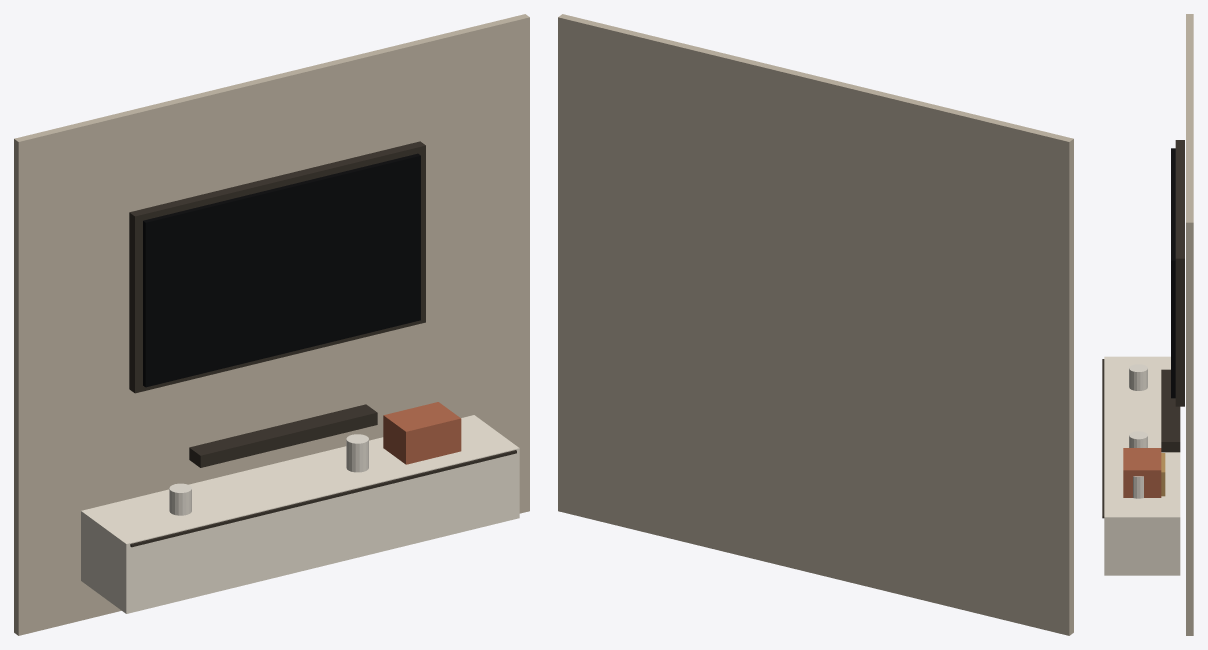
The picture shows the model from 3 angles, left to right: view 1: azimuth 30°, elevation 25°; view 2: azimuth 150°, elevation 25°; view 3: azimuth 270°, elevation 25°; orthographic projection. The views are drawn at different scales.
Visible parts, largest first — view 1: tv-wall; view 2: tv-wall; view 3: tv-wall.
Boxes of the visible parts, box(x1,y1,x2,y2) form: tv-wall: box(14, 14, 529, 635); tv-wall: box(558, 14, 1073, 635); tv-wall: box(1102, 14, 1193, 635).
Bounding box in the file's own units: 2.6 × 2.4 × 0.481.
